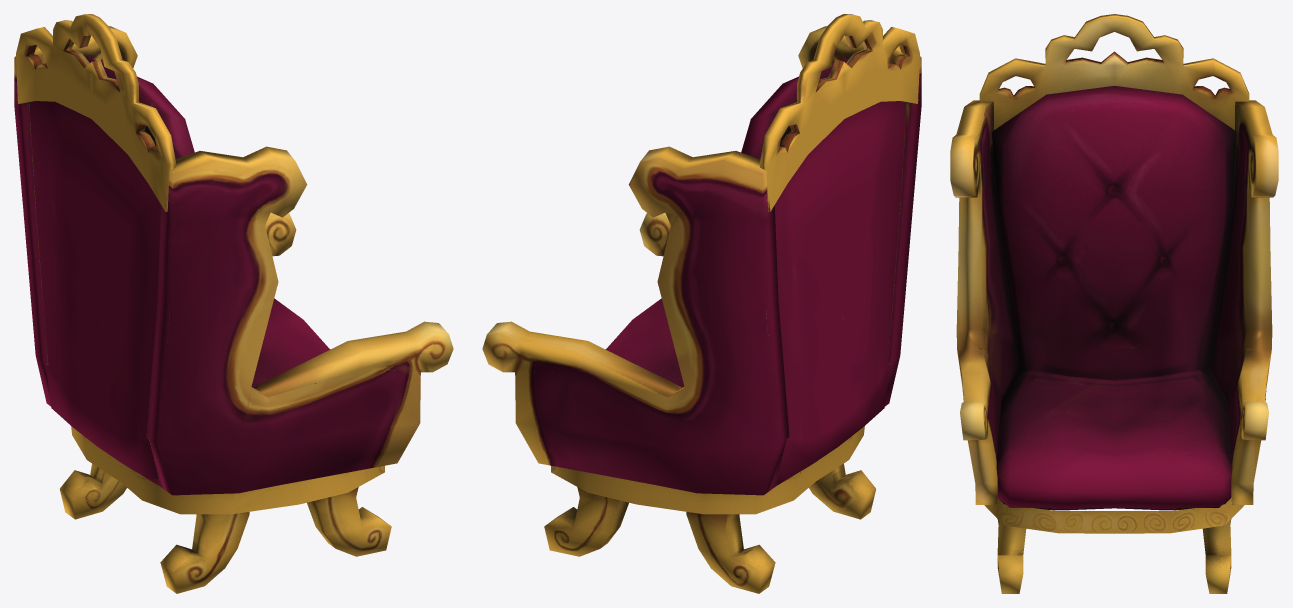
File: Obj_sillon.fbx
The picture shows the model from 3 angles, left to right: view 1: azimuth 30°, elevation 25°; view 2: azimuth 150°, elevation 25°; view 3: azimuth 270°, elevation 25°; orthographic projection. The views are drawn at different scales.
Parts seen in each view (by area): view 1: Obj_sillon_Rey; view 2: Obj_sillon_Rey; view 3: Obj_sillon_Rey.
Part boxes in pixels (<box>): Obj_sillon_Rey: <box>14,14,453,593</box>; Obj_sillon_Rey: <box>482,14,921,593</box>; Obj_sillon_Rey: <box>950,14,1278,593</box>.
Bounding box in the file's own units: 0.7531 × 1.4 × 0.8679.
